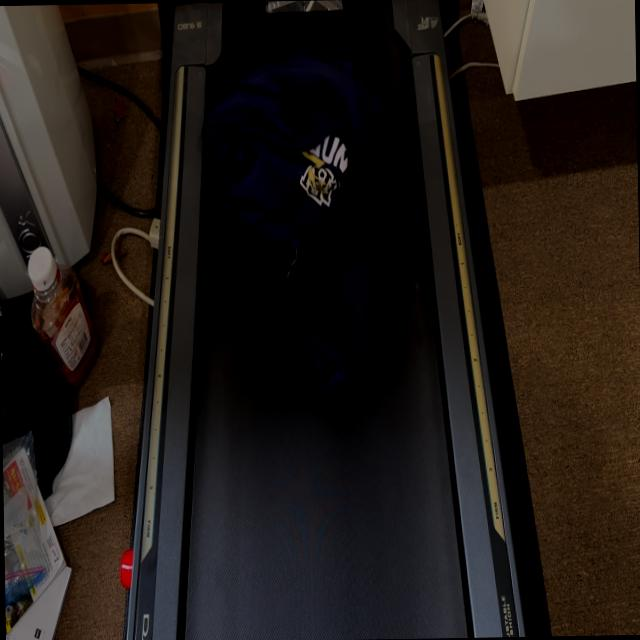Trash: (216, 60, 390, 379)
